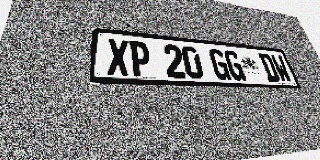0: (181, 46, 204, 79)
2: (163, 44, 186, 78)
D: (258, 53, 281, 82)
G: (208, 48, 231, 80), (223, 50, 246, 81)
P: (129, 40, 152, 77)
W: (270, 54, 293, 82)
X: (107, 38, 130, 76)
